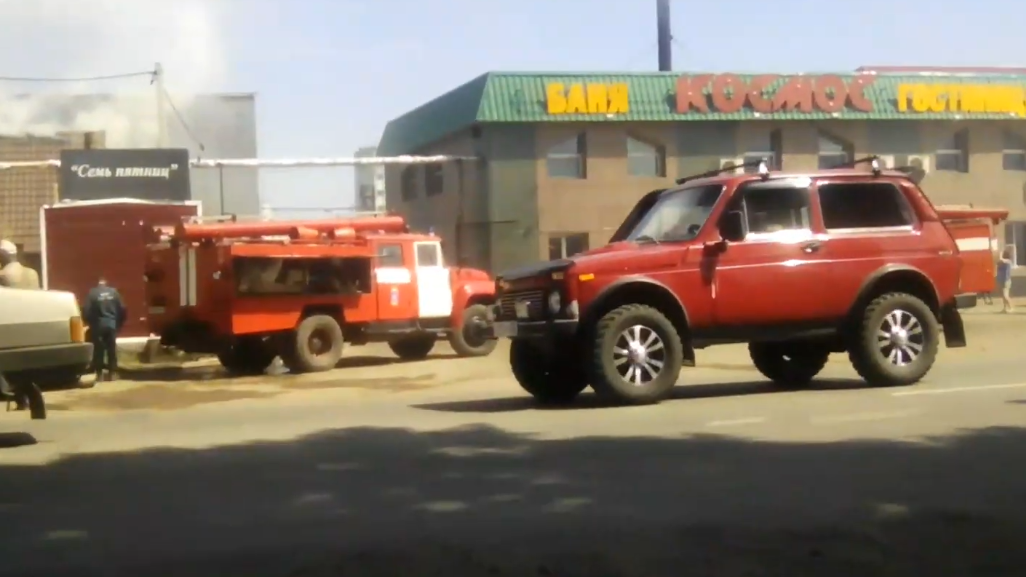fire fighting vehicle: (156, 212, 500, 374)
non emergency car: (491, 168, 958, 403)
